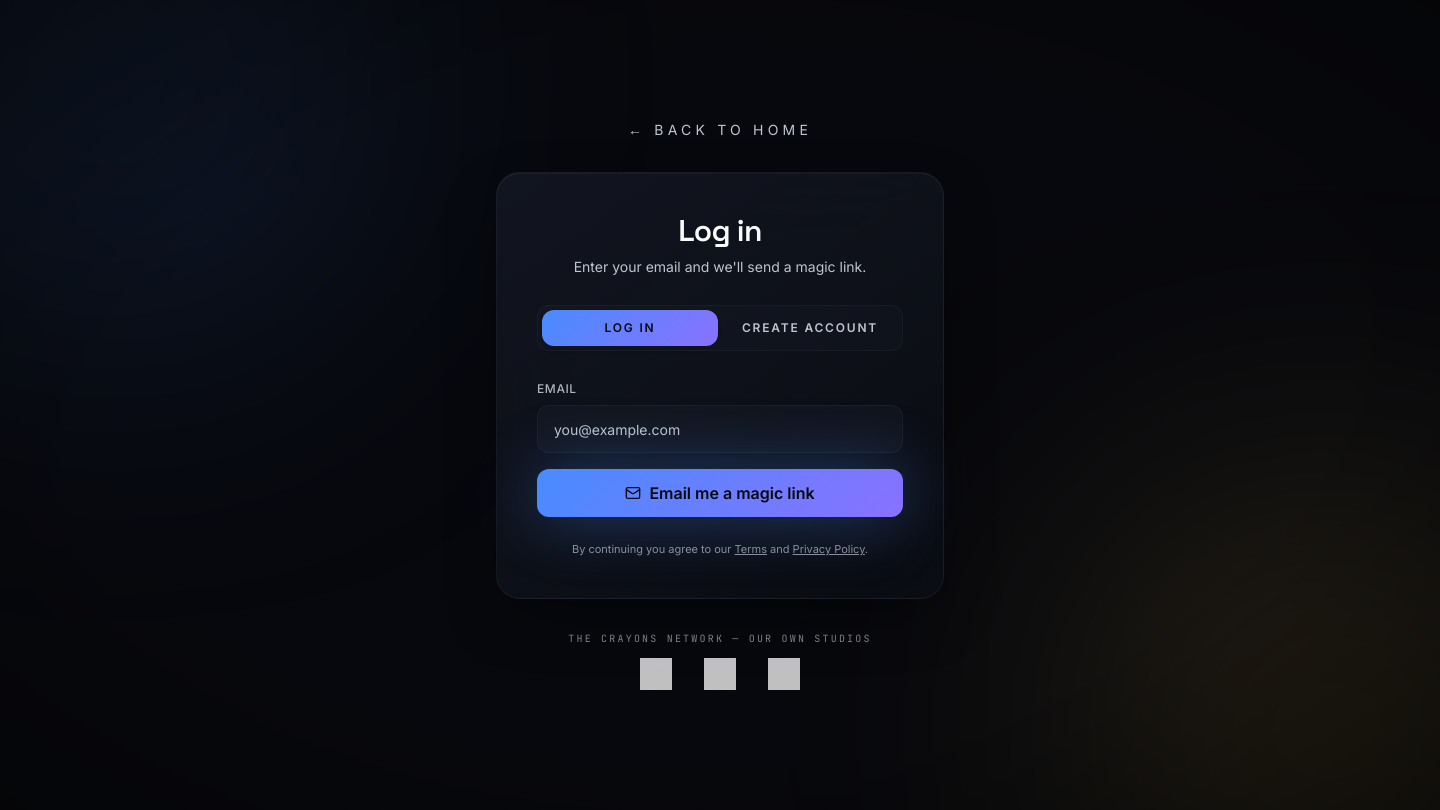
Test case: Stop 3 — Log In page › can switch from Login tab to Create Account tab
Click the button "Create account" at (810, 328), box x1=722 y1=310 x2=898 y2=346
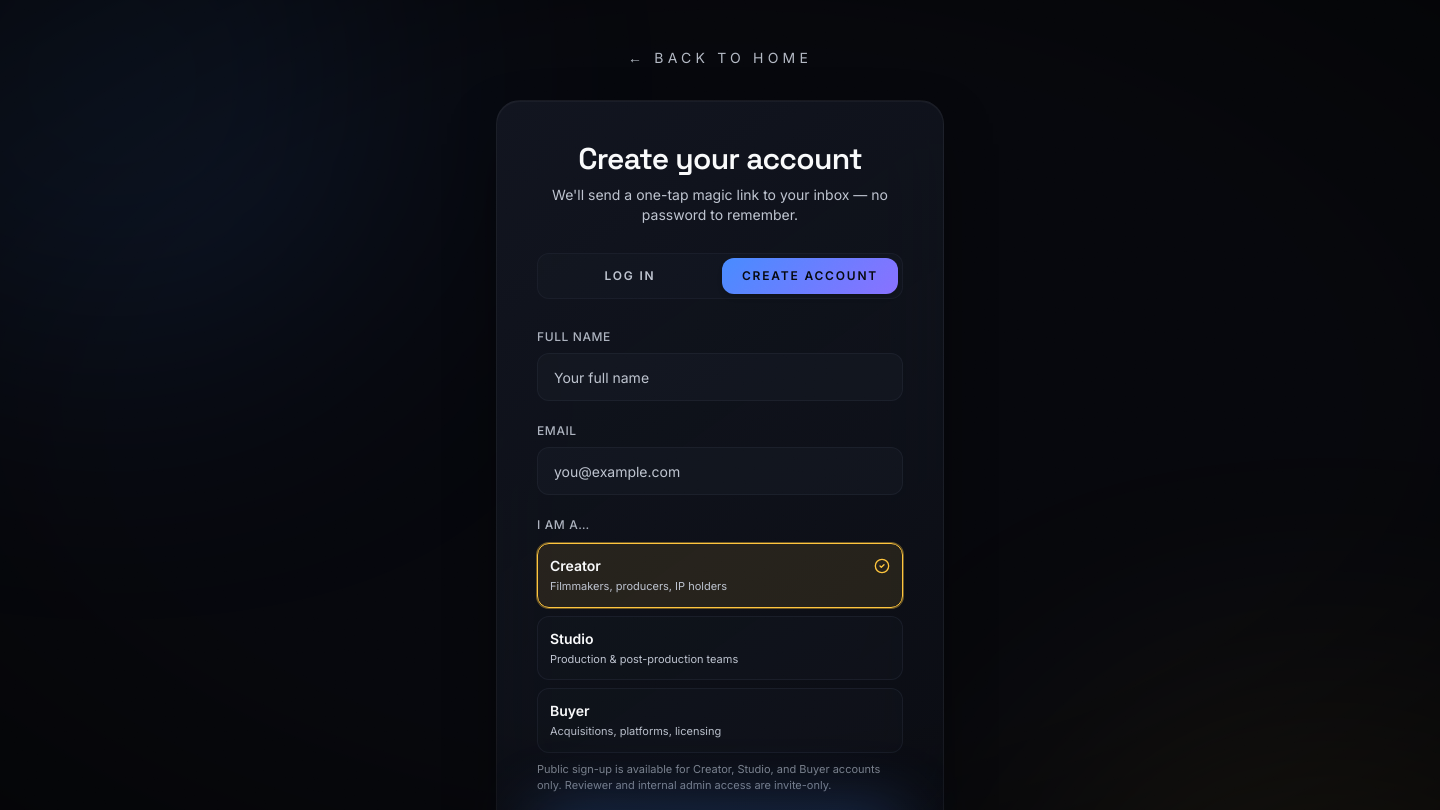
Result: the heading "Create your account" is shown at x1=578 y1=139 x2=862 y2=178
